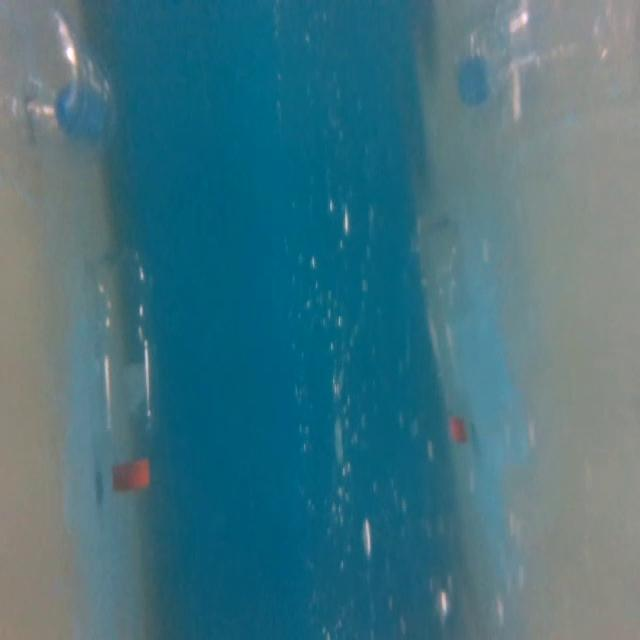plastic bottle: (82, 232, 166, 495)
